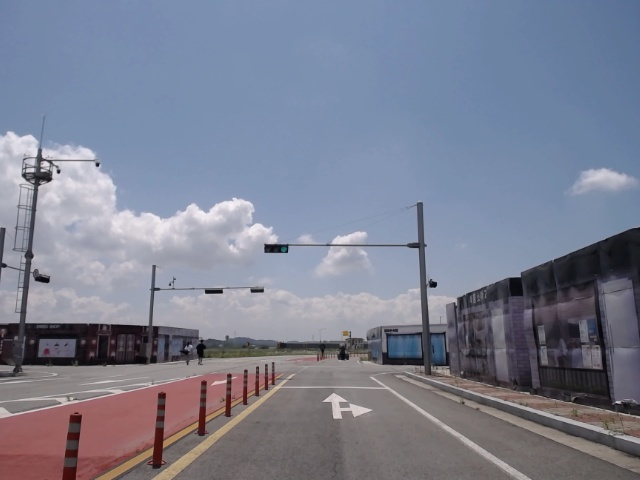green_3: (265, 245, 290, 253)
